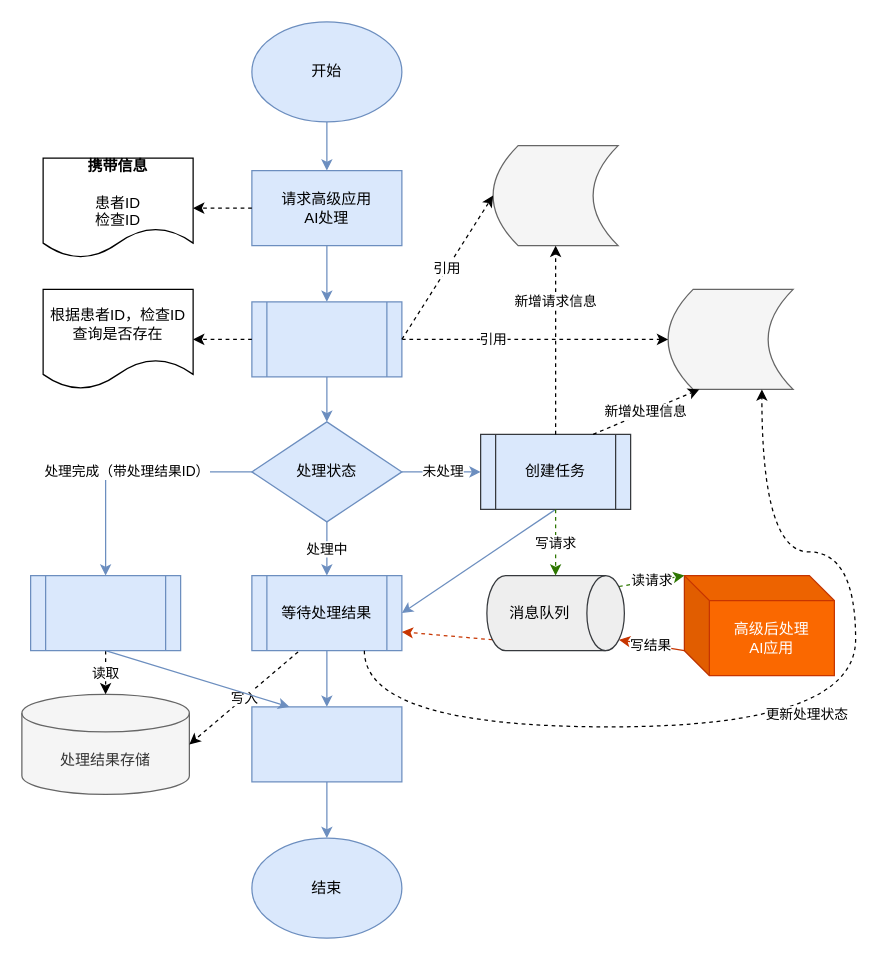
This 878x960 diagram has some shape labels left out. Here are the shapes that lost their labels. From the top down, the centre of each, then its label:
(555,195): Request 患者ID 检查ID 处理任务ID
(326,339): 分析请求
(730,338): Process 处理任务ID 处理结果ID 处理状态
(105,612): 取处理结果
(326,744): 返回结果
